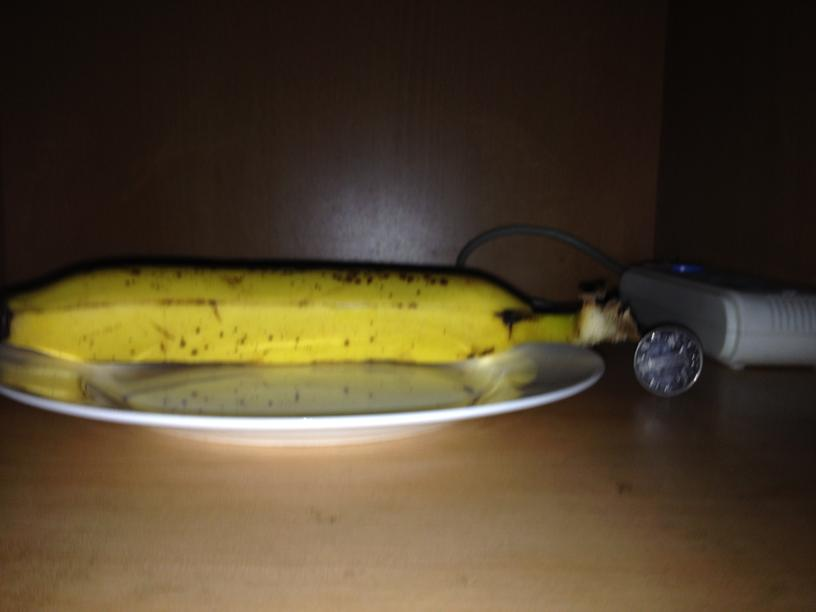banana: (13, 277, 585, 366)
coin: (633, 325, 702, 398)
